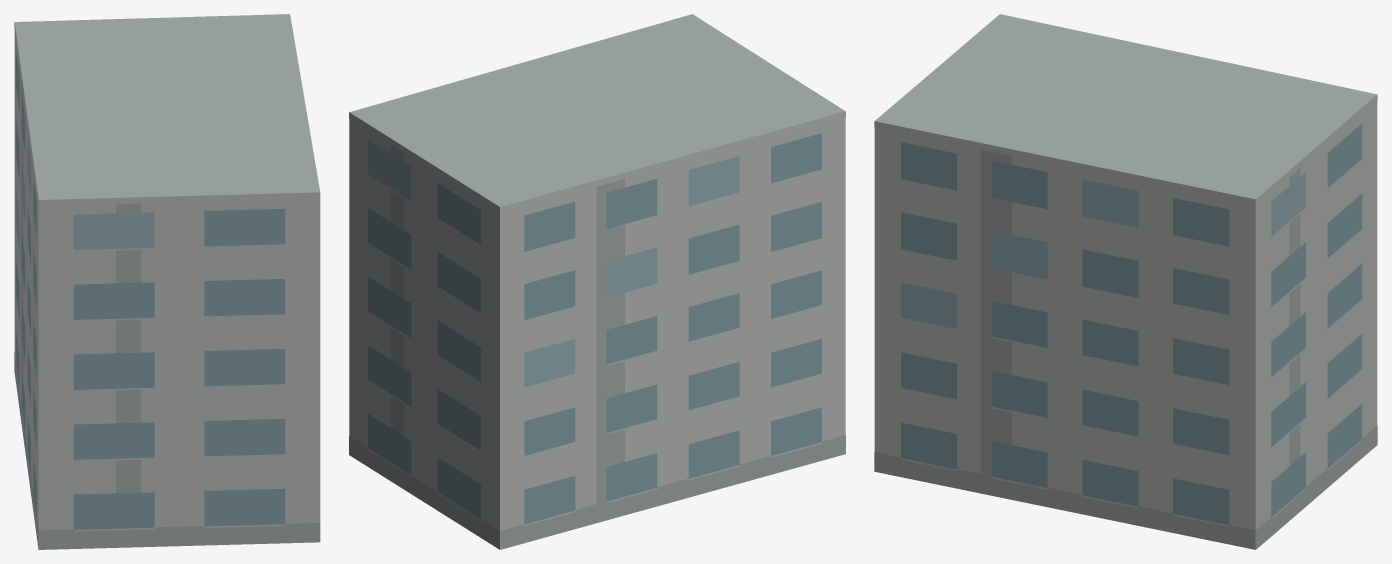
Rendered from survey-upis-32888381.glb.
3 renders of one model, left to right at view 1: azimuth 30°, elevation 25°; view 2: azimuth 150°, elevation 25°; view 3: azimuth 270°, elevation 25°, orthographic. The views are drawn at different scales.
Parts seen in each view (by area): view 1: survey-upis-32888381.tmp; view 2: survey-upis-32888381.tmp; view 3: survey-upis-32888381.tmp.
Part boxes in pixels (x1,y1,x2,y2): survey-upis-32888381.tmp: (14,14,320,549); survey-upis-32888381.tmp: (349,14,845,549); survey-upis-32888381.tmp: (874,14,1377,549).
Size of the model in its own units: 14.98 by 13.2 by 17.18.
